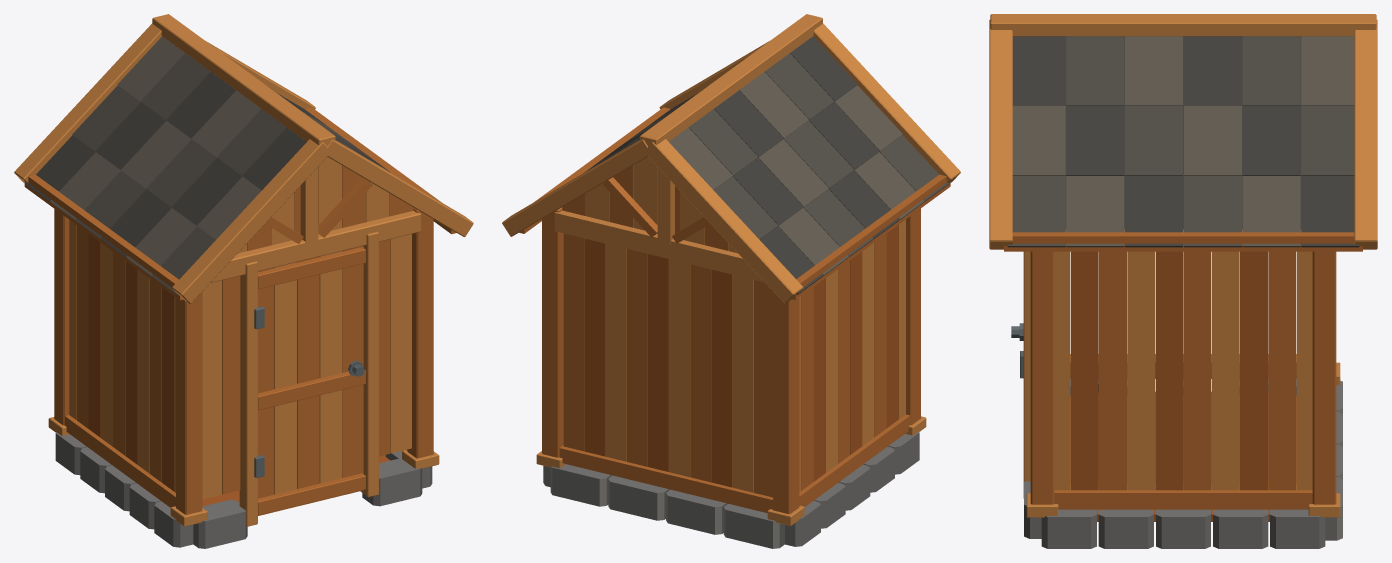
Rendered from Tool Shed.glb.
3 views of the same model, side by side, from view 1: azimuth 30°, elevation 25°; view 2: azimuth 150°, elevation 25°; view 3: azimuth 270°, elevation 25° (orthographic). The views are drawn at different scales.
Visible parts, largest first — view 1: Tool Shed | Static, Tool Shed | Door; view 2: Tool Shed | Static; view 3: Tool Shed | Static.
Boxes of the visible parts, x1,y1,x2,y2 form: Tool Shed | Static: [14, 14, 473, 548]; Tool Shed | Door: [254, 245, 365, 515]; Tool Shed | Static: [502, 14, 960, 548]; Tool Shed | Static: [989, 14, 1377, 548].
Bounding box in the file's own units: 2.33 × 3.01 × 2.31.
